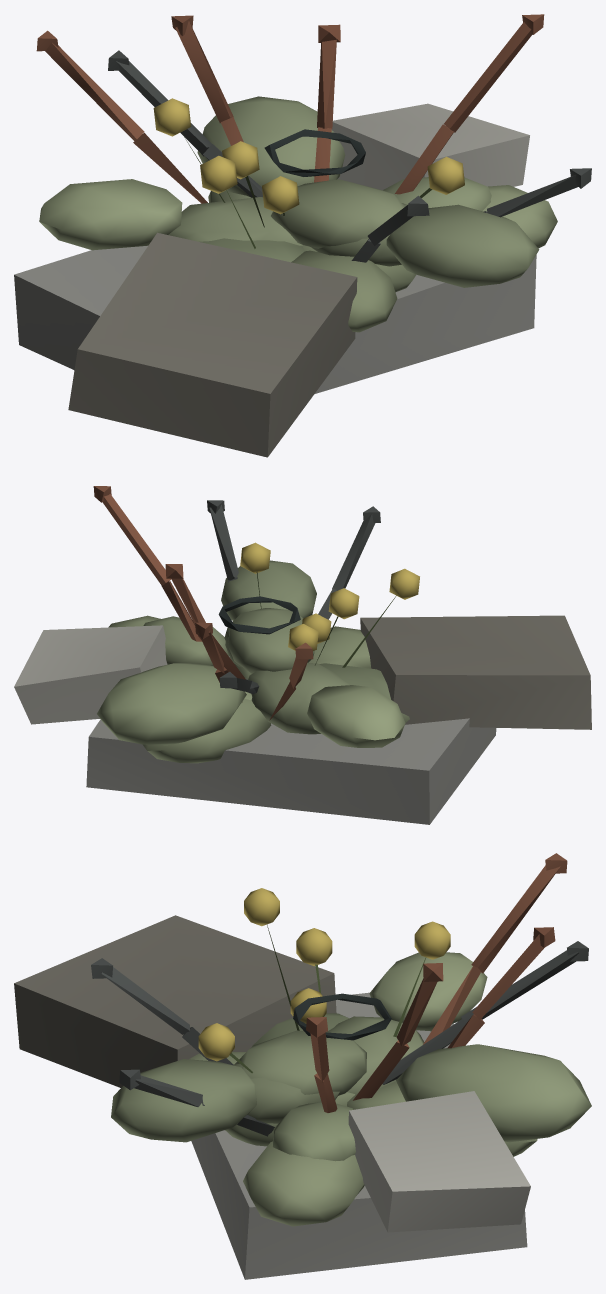
File: rebar_bloom_b_lod1.glb
3 renders of one model, top to bottom at view 1: azimuth 30°, elevation 25°; view 2: azimuth 150°, elevation 25°; view 3: azimuth 270°, elevation 25°, orthographic. The views are drawn at different scales.
Parts seen in each view (by area): view 1: Surface.001; view 2: Surface.001; view 3: Surface.001.
Part boxes in pixels (x1=…): Surface.001: x1=14, y1=14, x2=591, y2=457; Surface.001: x1=14, y1=486, x2=591, y2=824; Surface.001: x1=14, y1=853, x2=591, y2=1279.
Bounding box in the file's own units: 4.18 × 1.95 × 3.68.
